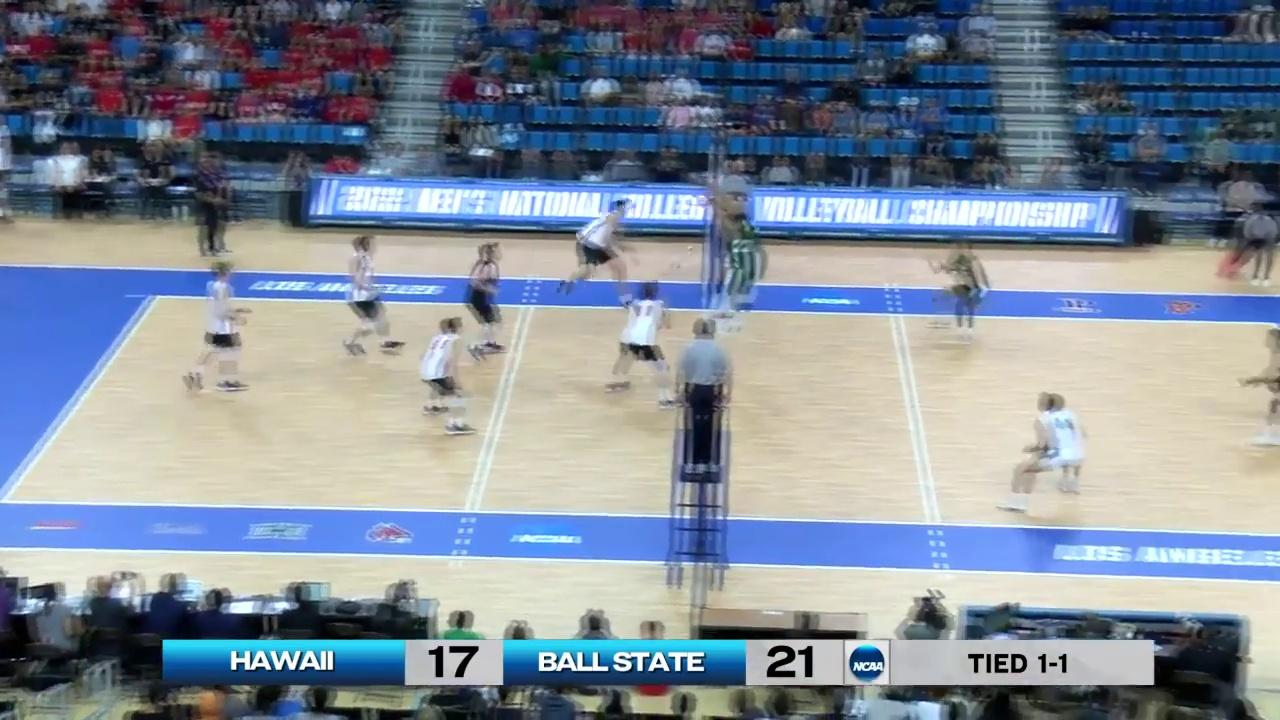player: (1006, 393, 1092, 515), (609, 282, 675, 407), (557, 199, 636, 299), (186, 264, 244, 395), (415, 320, 477, 439), (344, 234, 395, 357), (460, 244, 511, 357), (932, 240, 986, 338), (730, 207, 767, 329), (1246, 326, 1280, 453), (719, 206, 746, 335)
refree: (677, 319, 730, 438)
